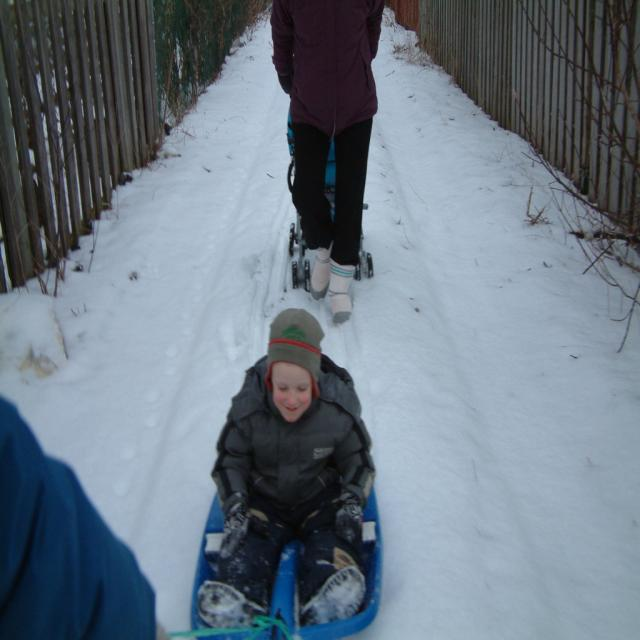Person: (197, 308, 376, 628), (0, 393, 171, 640), (270, 0, 385, 327)
